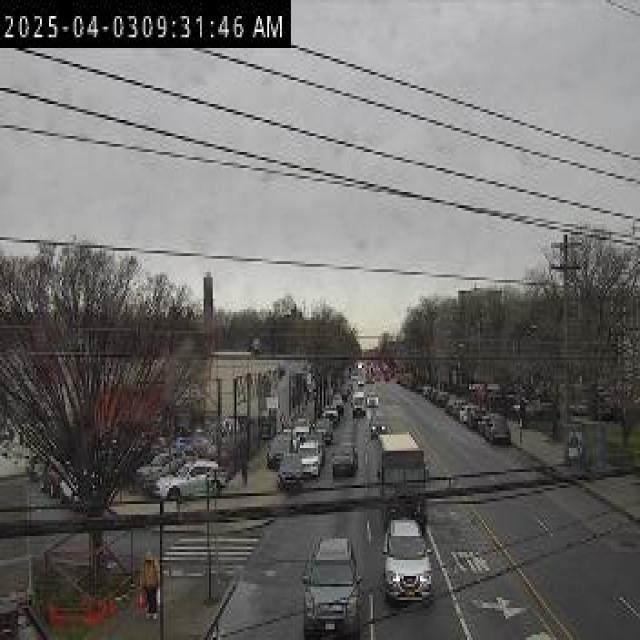parkedCars: (422, 387, 534, 453)
